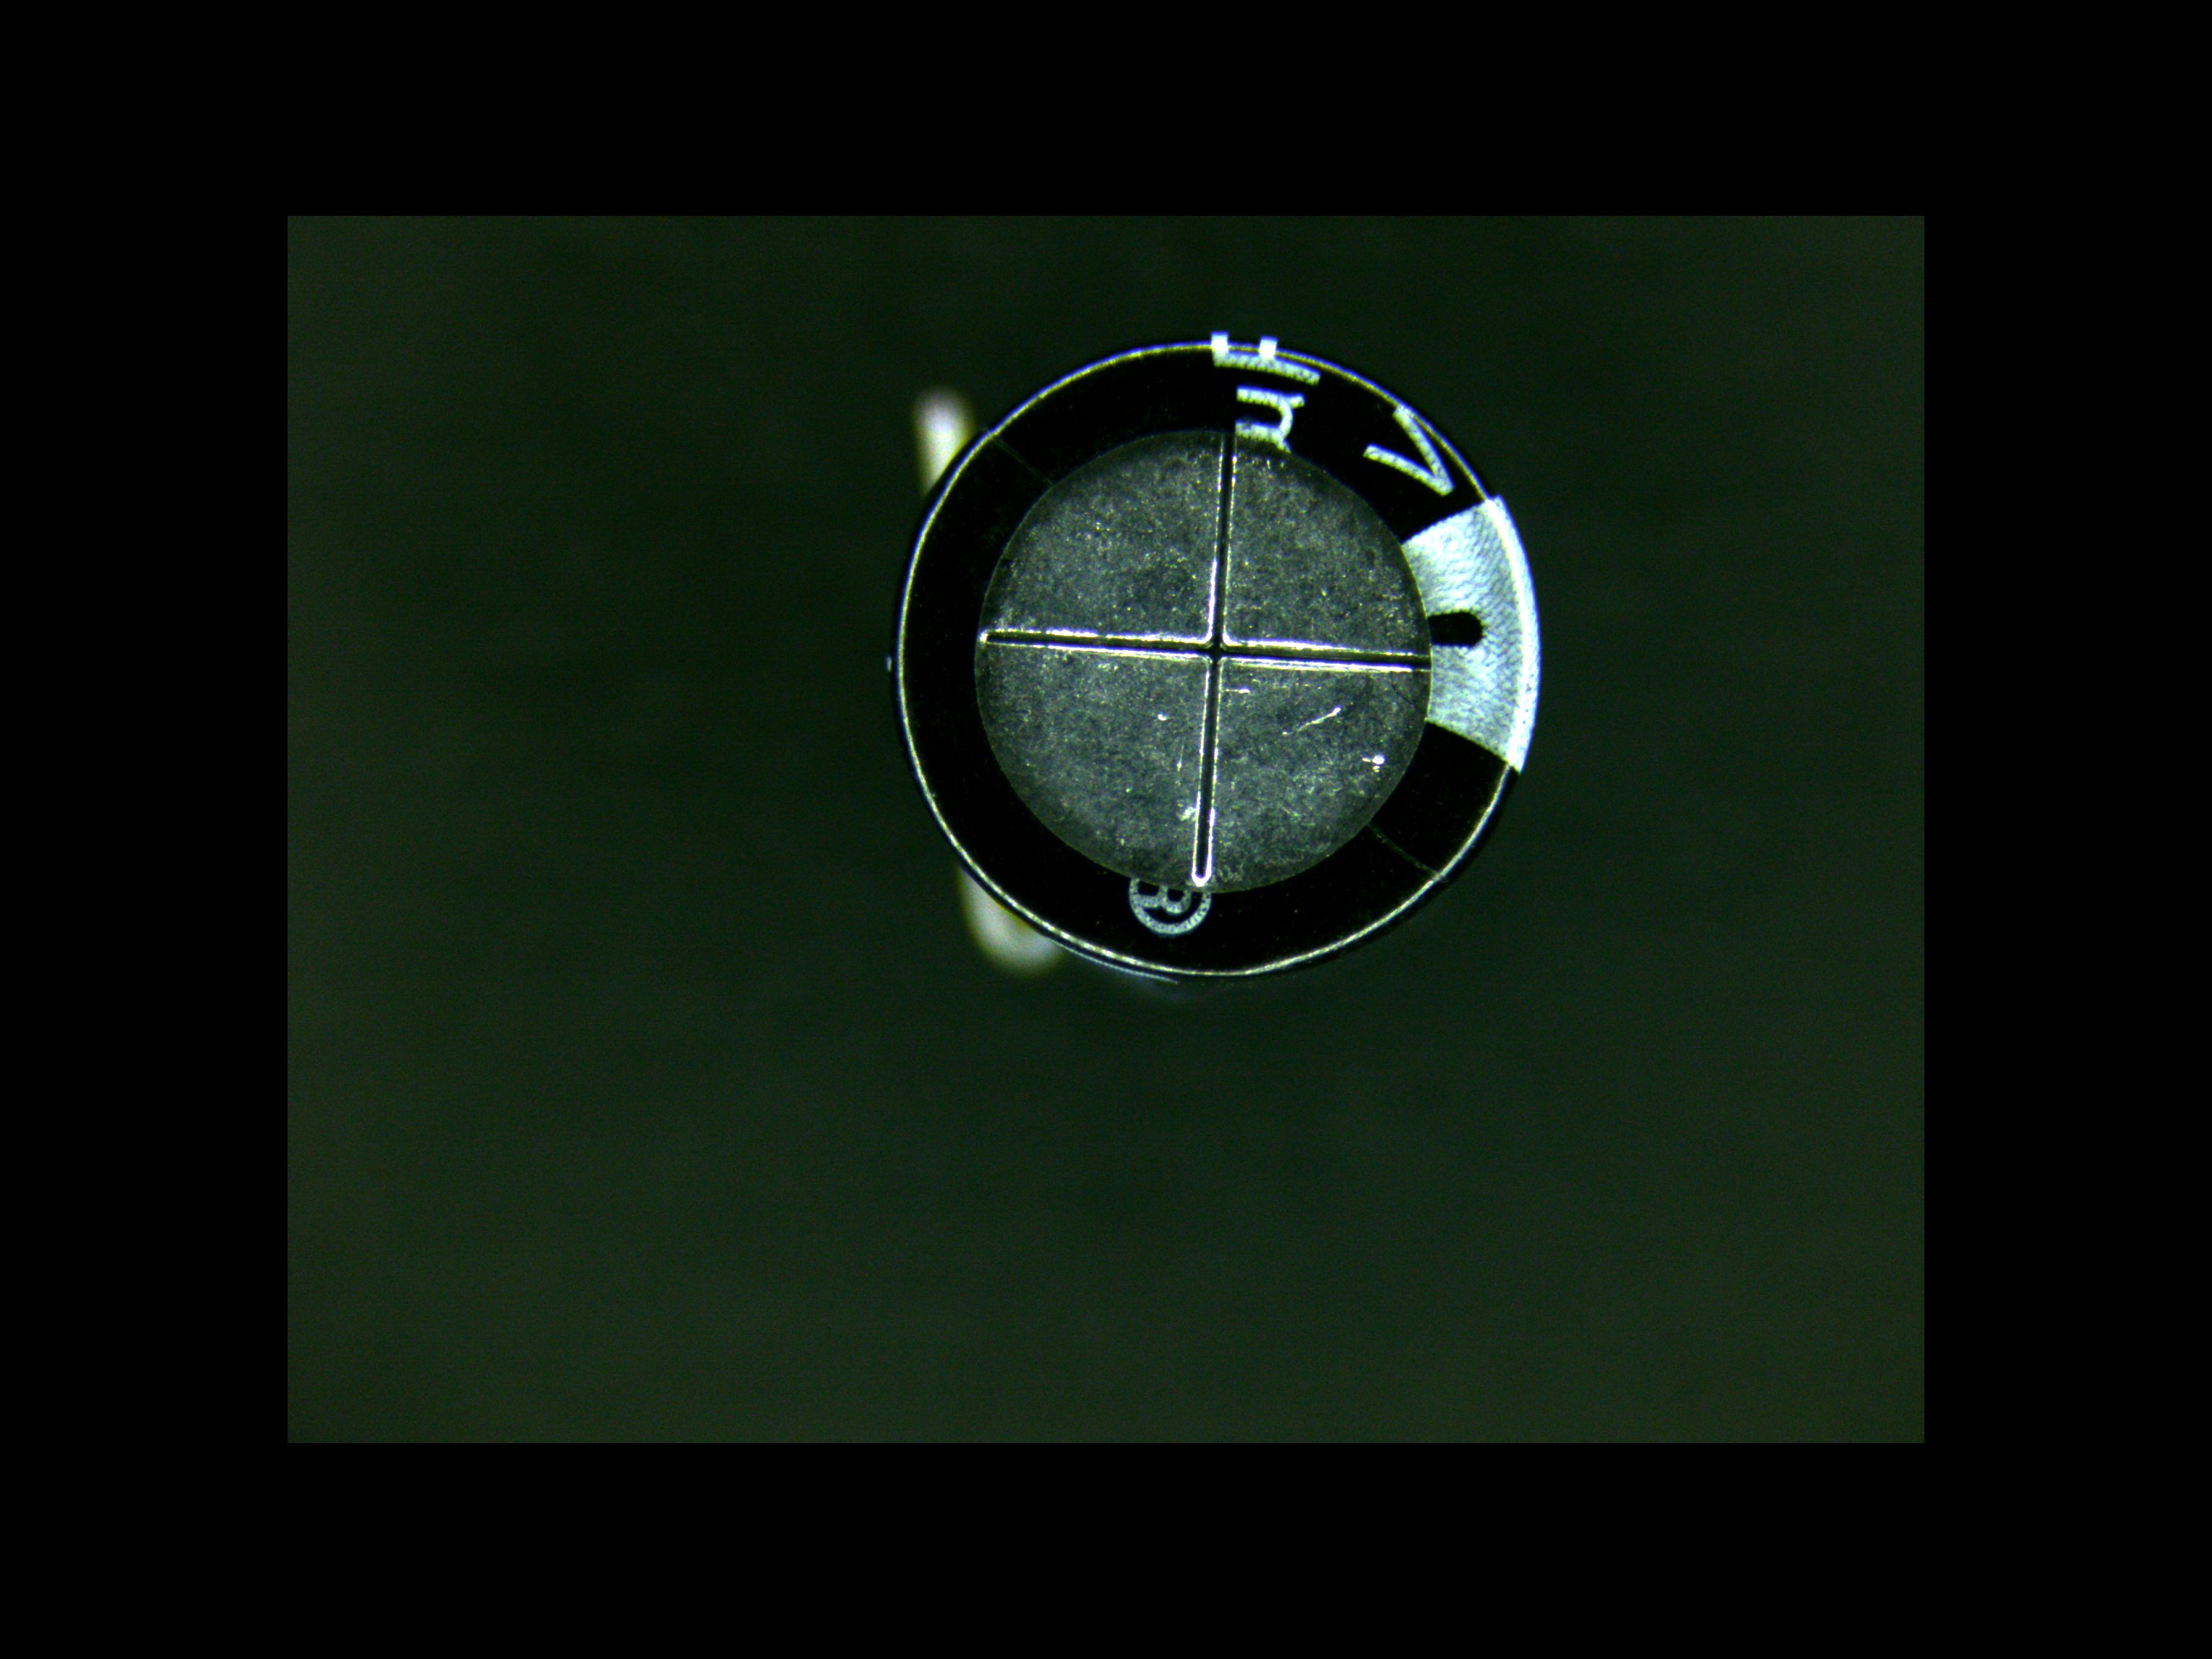c3: (894, 317, 1545, 985)
